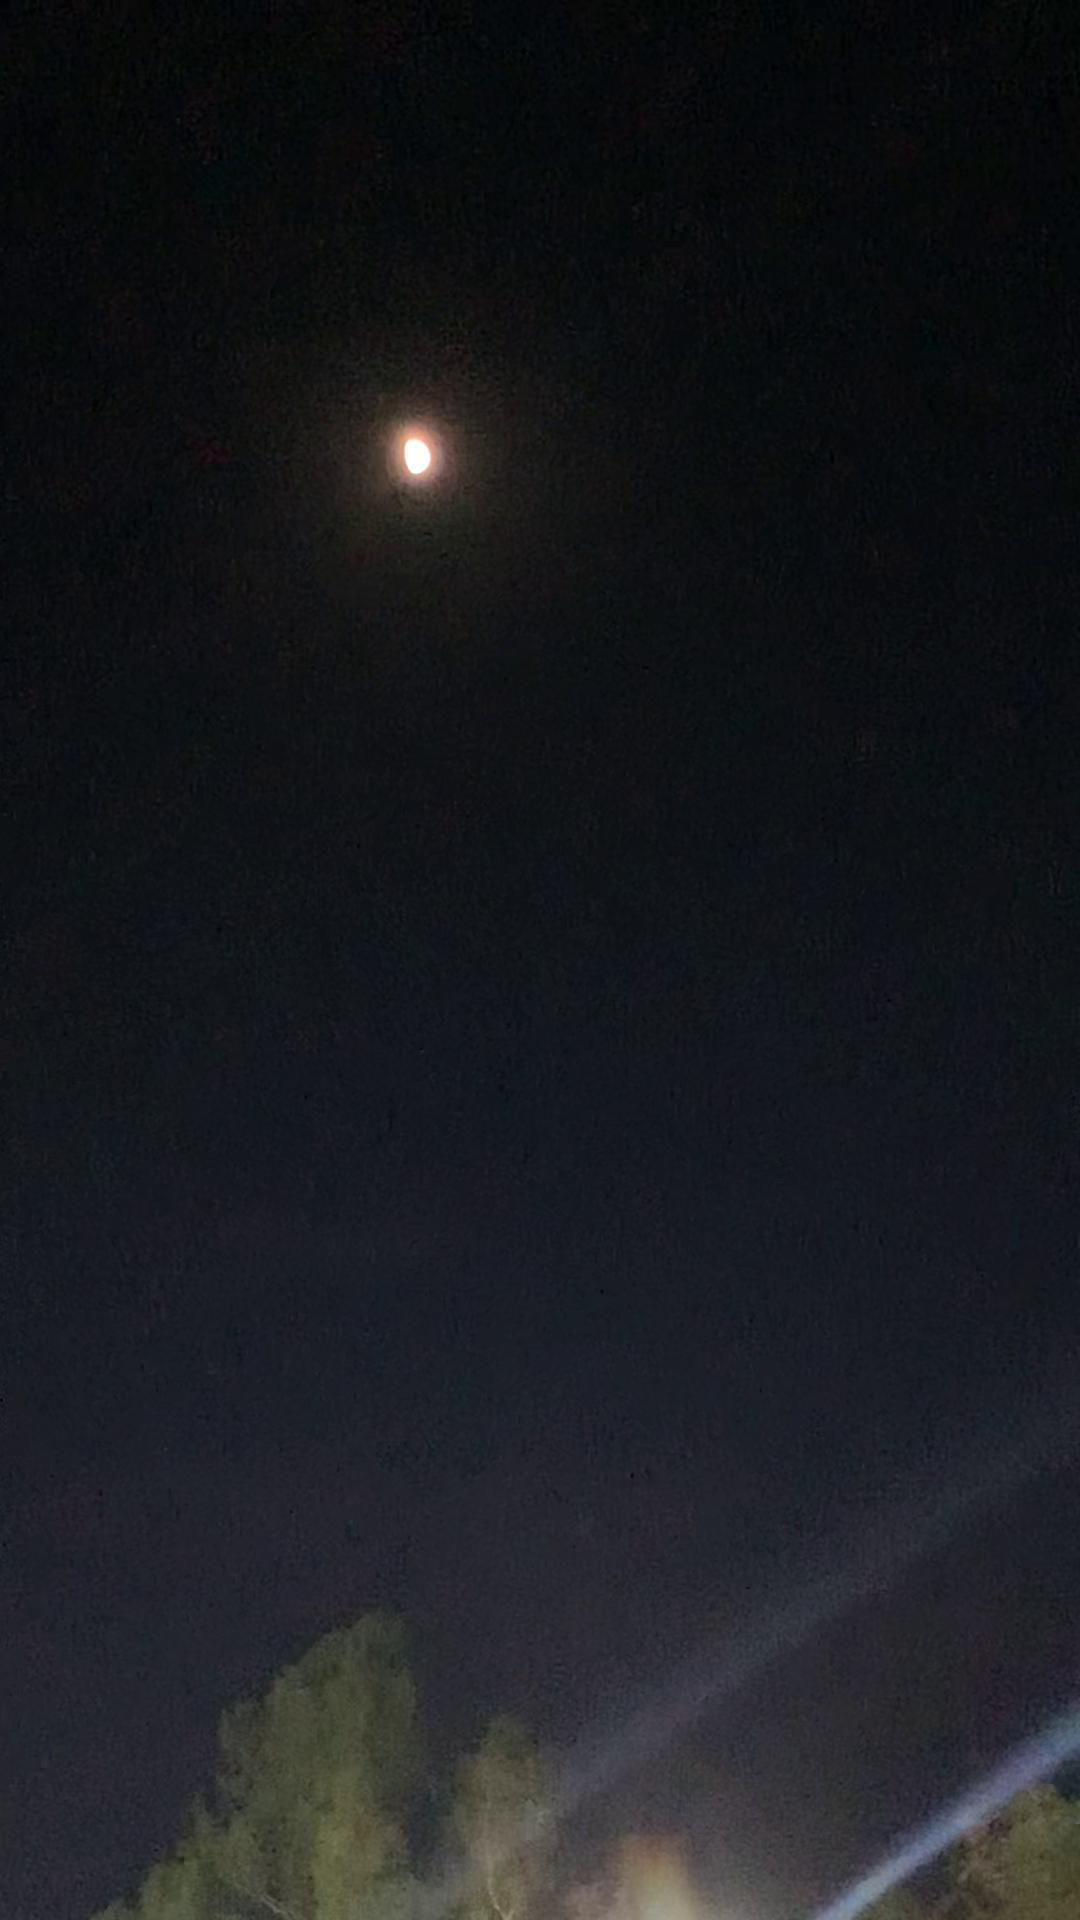moon: (382, 425, 459, 504)
